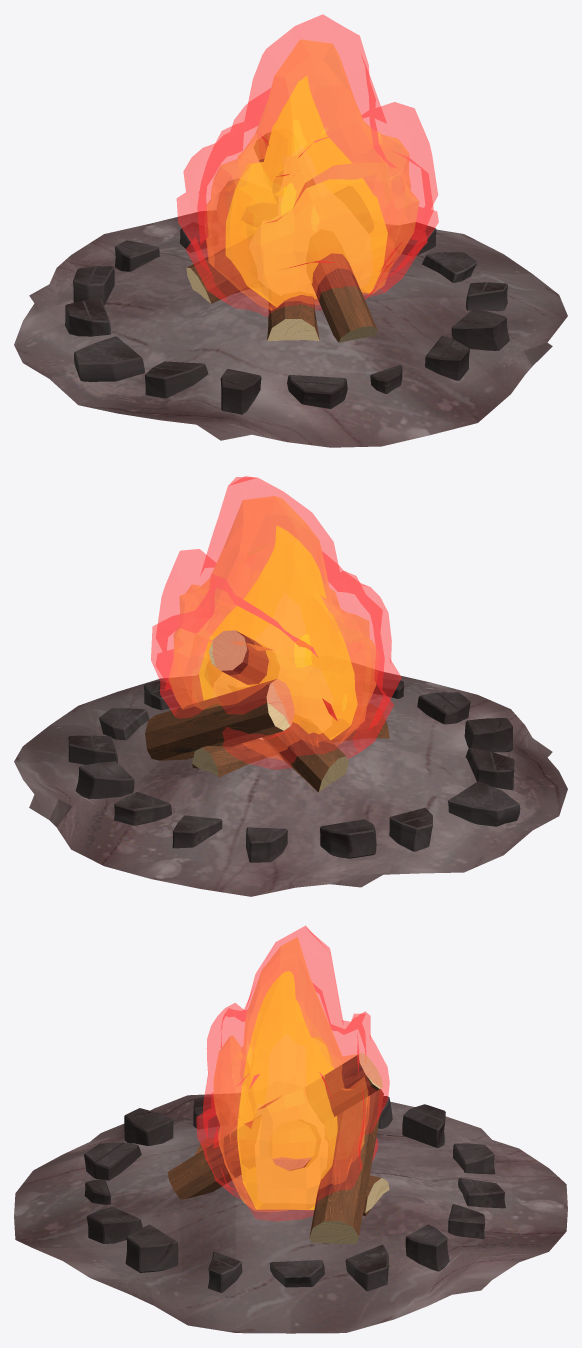
Rendered from campfire.glb.
3 views of the same model, one above another, from view 1: azimuth 30°, elevation 25°; view 2: azimuth 150°, elevation 25°; view 3: azimuth 270°, elevation 25° (orthographic).
Parts seen in each view (by area): view 1: polySurface7, polySurface5, polySurface3, polySurface4, polySurface6, polySurface22, polySurface8, polySurface26, polySurface12, polySurface23, polySurface25, polySurface21 (+10 smaller); view 2: polySurface7, polySurface5, polySurface3, polySurface4, polySurface9, polySurface8, polySurface26, polySurface6, polySurface22, polySurface20, polySurface16, polySurface24 (+10 smaller); view 3: polySurface7, polySurface5, polySurface3, polySurface4, polySurface9, polySurface6, polySurface12, polySurface25, polySurface24, polySurface16, polySurface11, polySurface20 (+9 smaller).
Part boxes in pixels (x1,y1,x2,y2): polySurface7: (14, 211, 567, 447); polySurface5: (176, 14, 438, 316); polySurface3: (205, 39, 419, 310); polySurface4: (226, 76, 387, 307); polySurface6: (259, 132, 377, 342); polySurface22: (74, 336, 144, 381); polySurface8: (186, 248, 302, 303); polySurface26: (267, 295, 319, 341); polySurface12: (451, 309, 509, 350); polySurface23: (145, 361, 208, 398); polySurface25: (287, 375, 347, 408); polySurface21: (65, 298, 111, 336); polySurface7: (14, 663, 567, 896); polySurface5: (151, 476, 401, 769); polySurface3: (168, 496, 378, 760); polySurface4: (199, 526, 357, 739); polySurface9: (145, 679, 294, 760); polySurface8: (262, 722, 348, 792); polySurface26: (192, 704, 389, 777); polySurface6: (209, 630, 333, 713); polySurface22: (448, 781, 520, 826); polySurface20: (320, 819, 376, 858); polySurface16: (75, 761, 134, 799); polySurface24: (464, 718, 512, 752); polySurface7: (14, 1093, 567, 1333); polySurface5: (196, 925, 389, 1221); polySurface3: (213, 937, 369, 1211); polySurface4: (237, 971, 337, 1209); polySurface9: (309, 1089, 383, 1244); polySurface6: (167, 1052, 382, 1199); polySurface12: (125, 1224, 178, 1272); polySurface25: (84, 1142, 141, 1180); polySurface24: (124, 1108, 173, 1145); polySurface16: (405, 1224, 449, 1271); polySurface11: (86, 1207, 142, 1243); polySurface20: (402, 1104, 445, 1147).
Size of the model in its own units: 17.36 by 10.45 by 17.36.
Materials: 8 (4 with a texture image).
